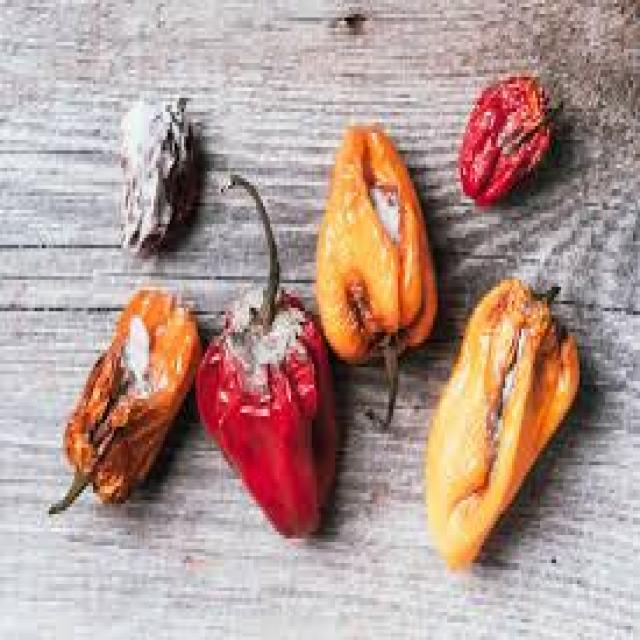organic waste: (191, 171, 337, 542), (424, 273, 577, 566), (47, 283, 200, 521), (317, 119, 435, 427), (116, 91, 200, 255), (459, 70, 563, 199)
